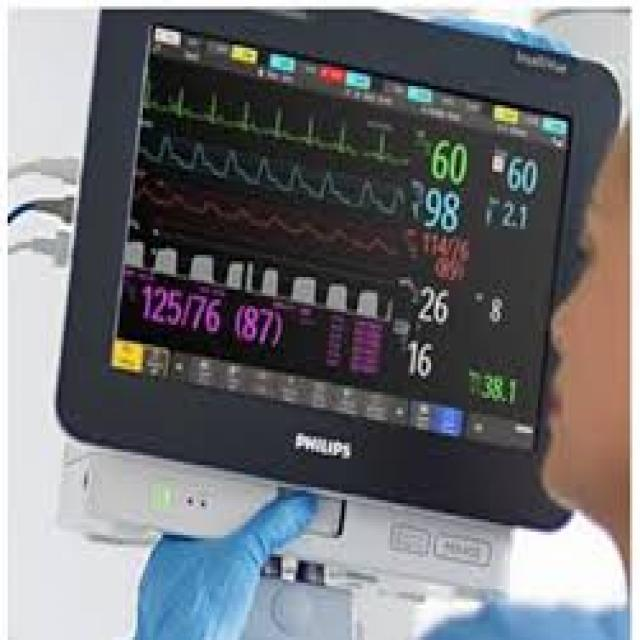cardiac_monitor: (107, 29, 548, 493)
